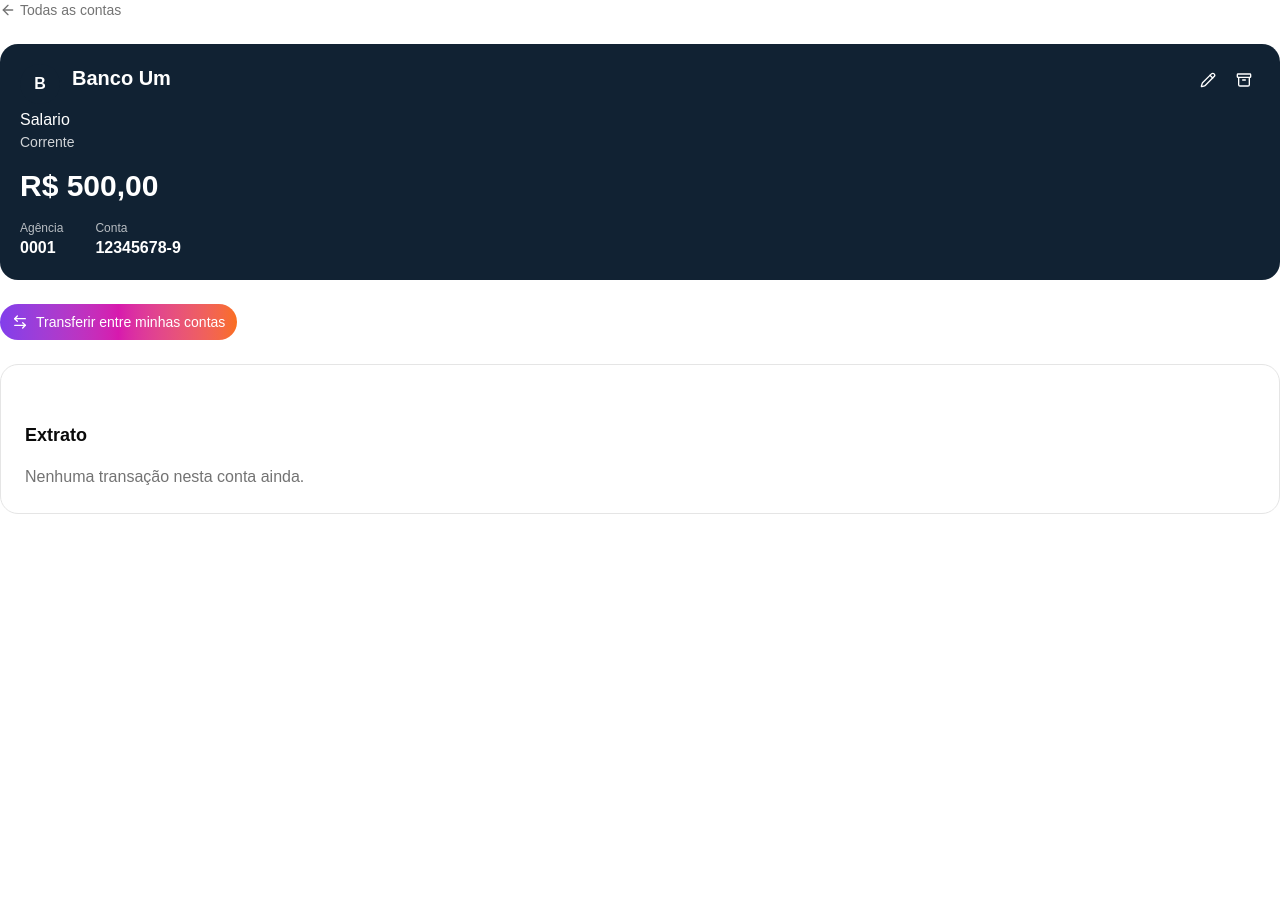
Scenario: detalhe da conta › renomear atualiza o apelido na tela
Click the button named "Renomear": (1208, 80) [1192, 64, 1224, 96]
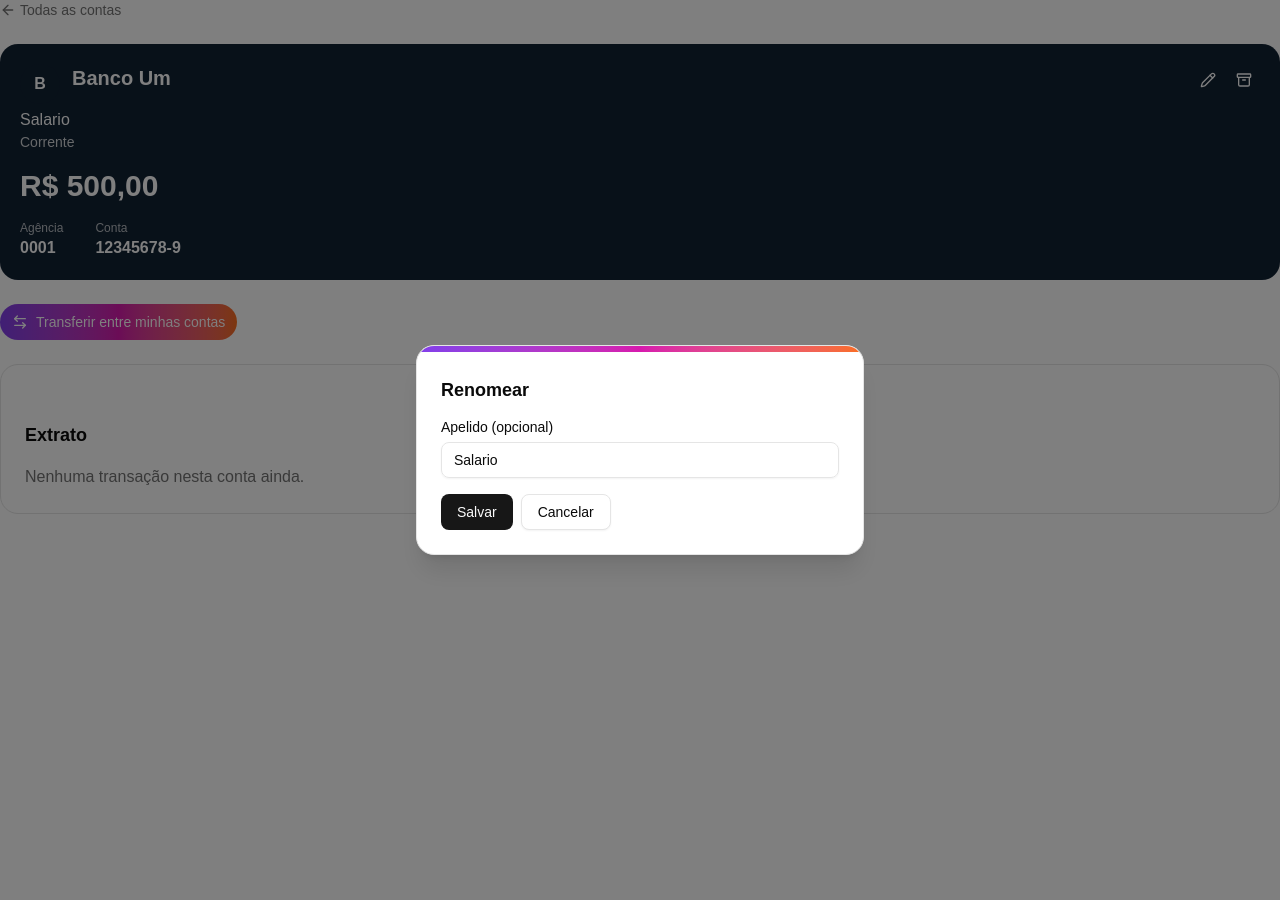
Replace the text in the field labelled "Apelido (opcional)" with "Reserva": (640, 460) [441, 442, 839, 478]
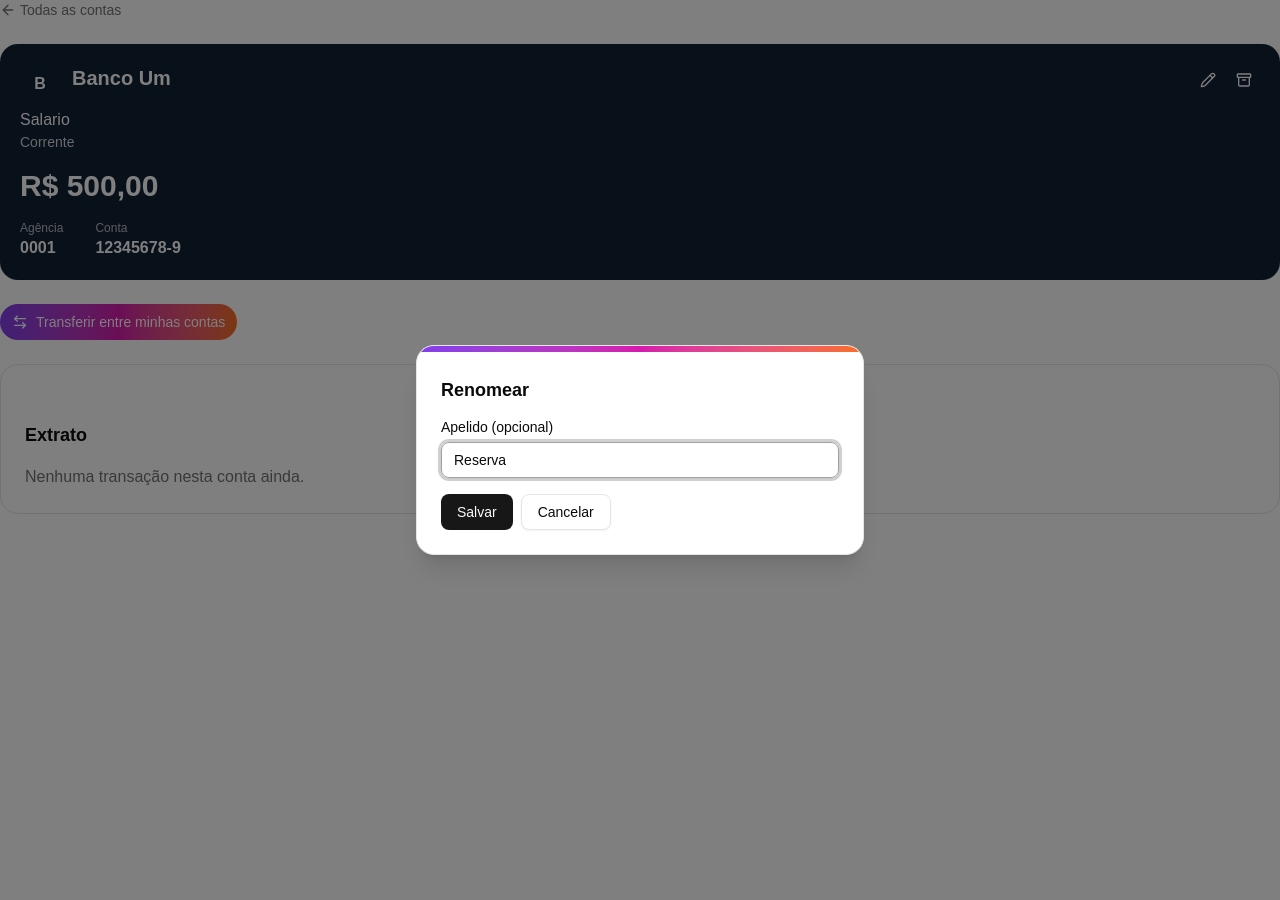
Click the button "Salvar": (477, 512) [441, 494, 513, 530]
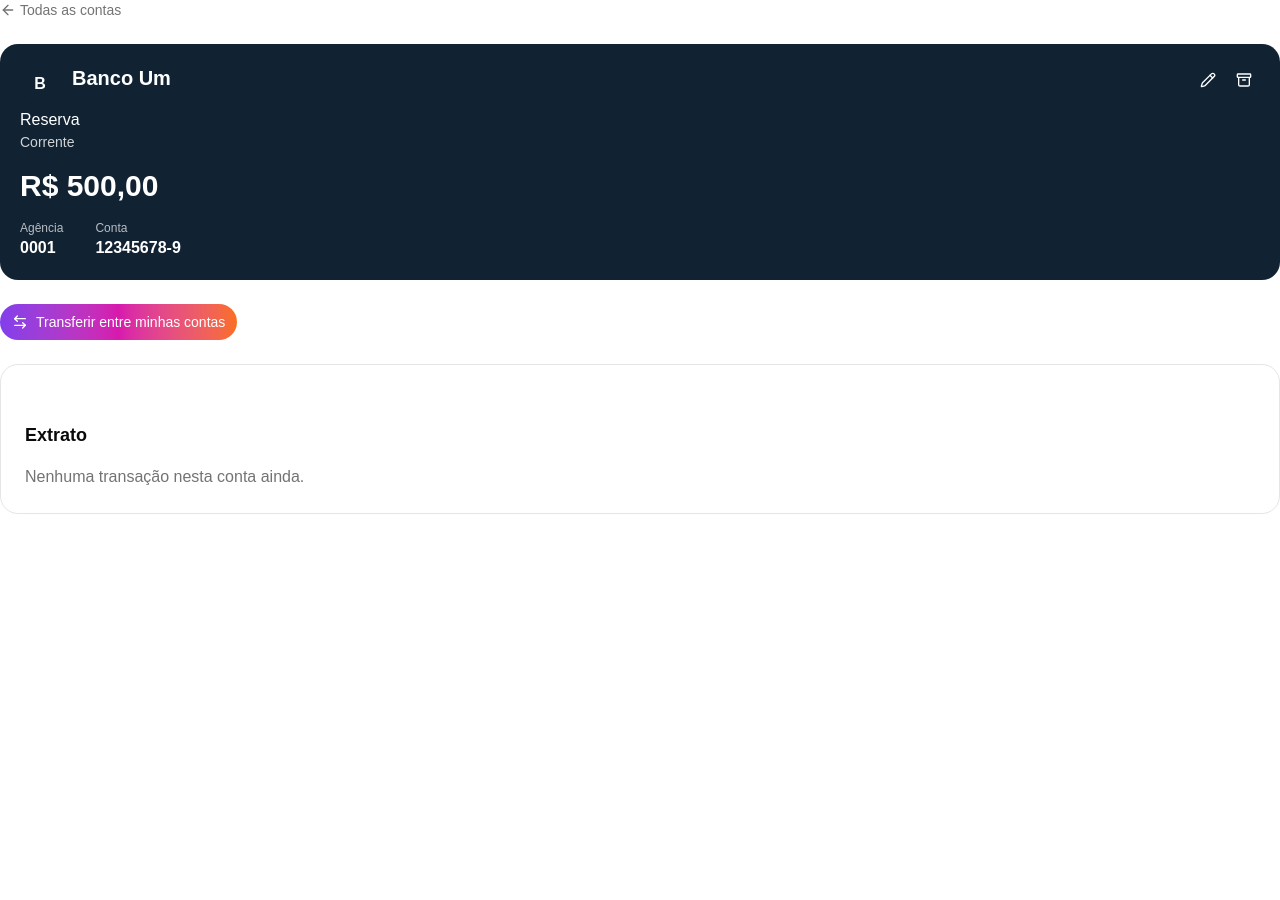
Expected: the heading "Reserva" is shown, [20, 111, 80, 128]
